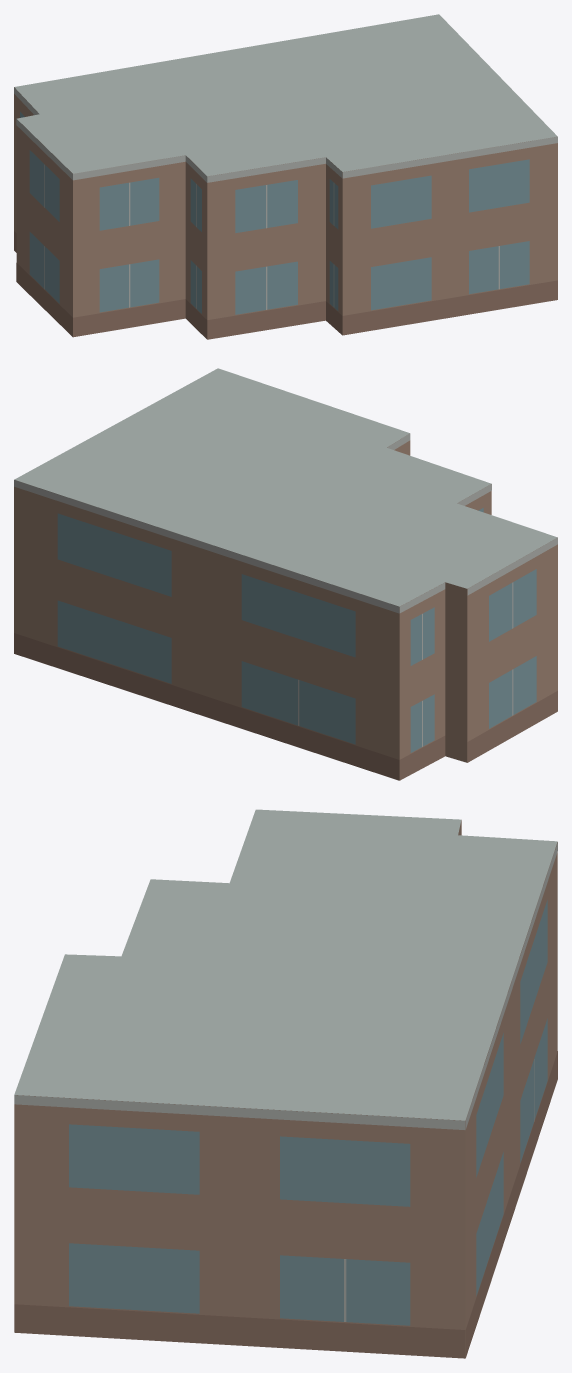
The model's file is survey-upis-32820248.glb.
3 views of the same model, one above another, from view 1: azimuth 30°, elevation 25°; view 2: azimuth 150°, elevation 25°; view 3: azimuth 270°, elevation 25° (orthographic). The views are drawn at different scales.
Visible parts, largest first — view 1: survey-upis-32820248.tmp; view 2: survey-upis-32820248.tmp; view 3: survey-upis-32820248.tmp.
Boxes of the visible parts, box(x1,y1,x2,y2) form: survey-upis-32820248.tmp: box(14, 14, 557, 339); survey-upis-32820248.tmp: box(14, 368, 557, 780); survey-upis-32820248.tmp: box(14, 809, 557, 1358).
Bounding box in the file's own units: 17.14 × 6.1 × 12.65.
